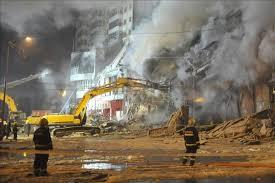fire: (159, 5, 267, 75)
